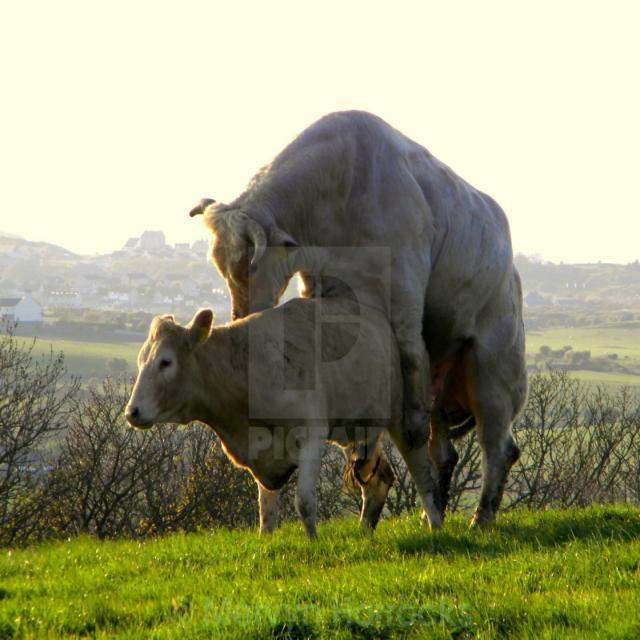COW: (190, 111, 526, 527), (126, 298, 434, 537)
